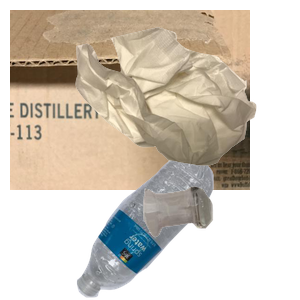cardboard: (10, 10, 250, 190)
glass: (141, 184, 300, 300)
plastic: (74, 156, 280, 300)
trash: (73, 25, 300, 183)
